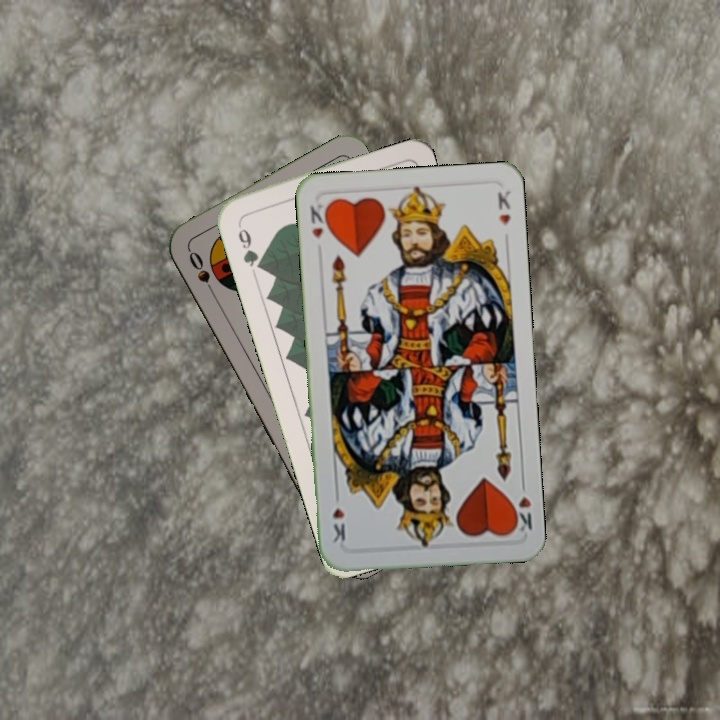G9: (233, 218, 266, 273)
HK: (507, 476, 535, 535), (306, 200, 332, 241)
SO: (184, 246, 219, 301)
